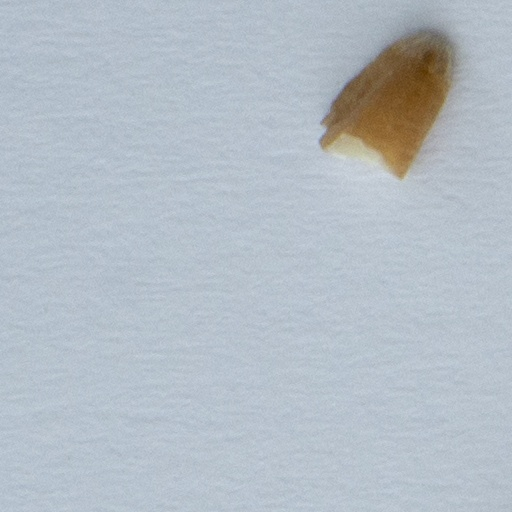Wheat-grain-damaged-poly: (316, 32, 457, 181)
